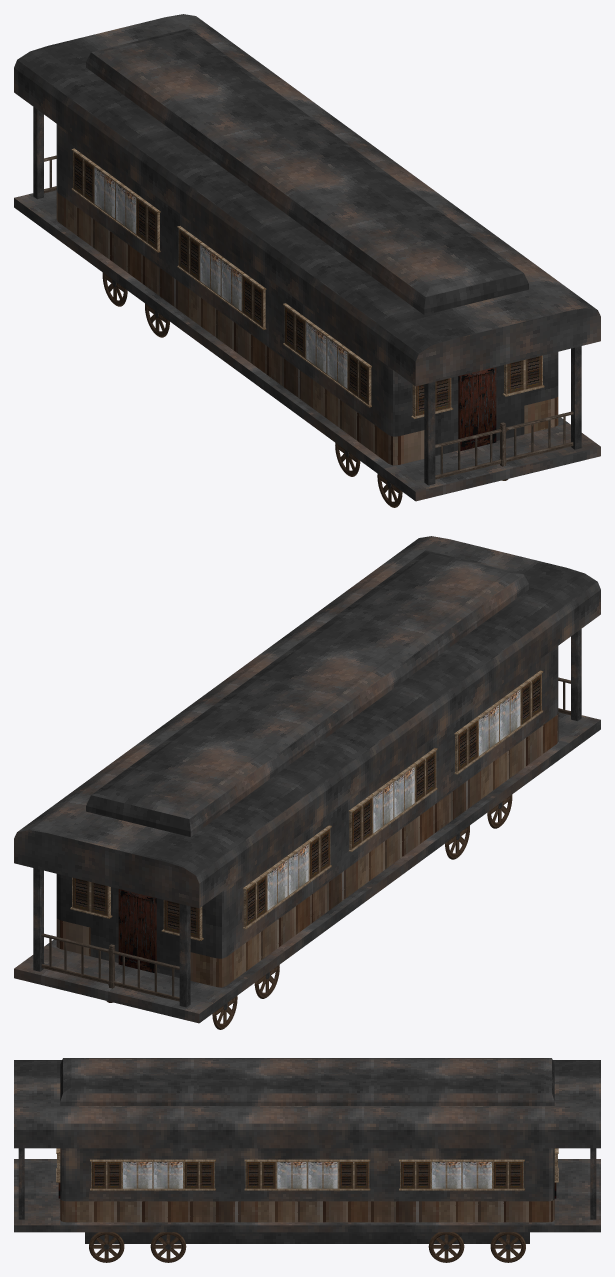
Rendered from Train_Car.fbx.
The picture shows the model from 3 angles, top to bottom: view 1: azimuth 30°, elevation 25°; view 2: azimuth 150°, elevation 25°; view 3: azimuth 270°, elevation 25°; orthographic projection. The views are drawn at different scales.
Parts seen in each view (by area): view 1: Train_Car; view 2: Train_Car; view 3: Train_Car.
Part boxes in pixels (left/top/right/bottom): Train_Car: left=14, top=14, right=600, bottom=507; Train_Car: left=14, top=536, right=600, bottom=1029; Train_Car: left=14, top=1058, right=600, bottom=1262.
Bounding box in the file's own units: 506 × 608 × 1900.
